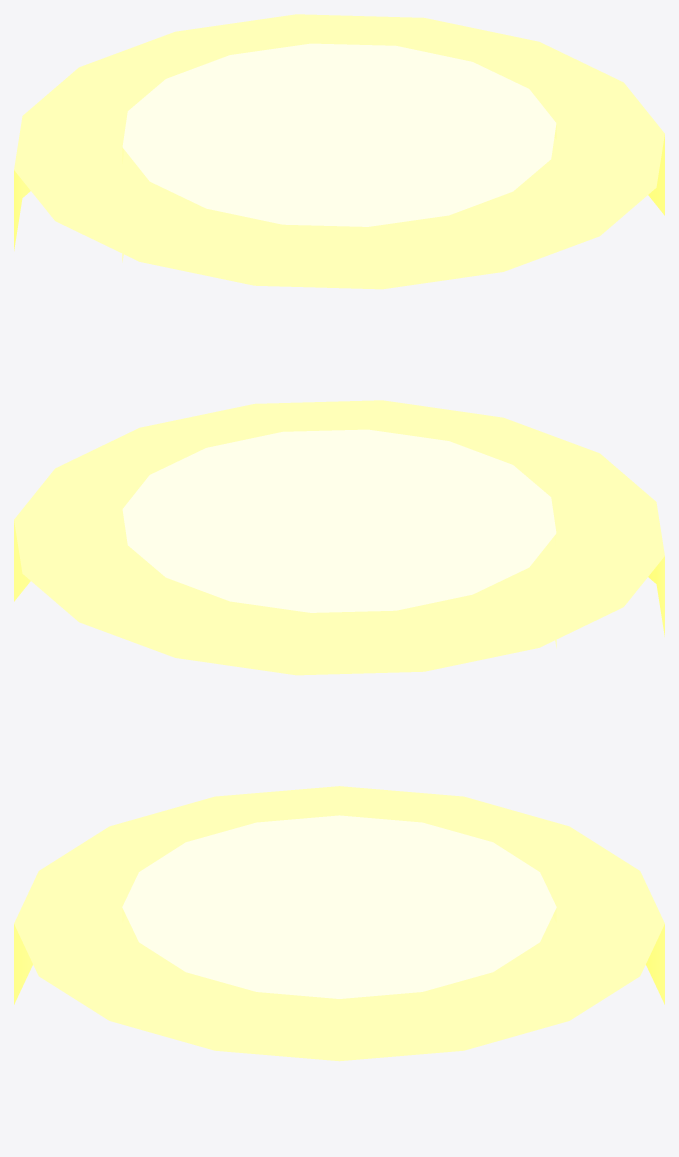
The model's file is model.collectible.glb.
3 renders of one model, top to bottom at view 1: azimuth 30°, elevation 25°; view 2: azimuth 150°, elevation 25°; view 3: azimuth 270°, elevation 25°, orthographic.
Parts seen in each view (by area): view 1: collectible; view 2: collectible; view 3: collectible.
Boxes of the visible parts, x1,y1,x2,y2 form: collectible: [14, 14, 664, 289]; collectible: [14, 400, 664, 675]; collectible: [14, 786, 664, 1061].
Size of the model in its own units: 0.3599 by 0.0698 by 0.3599.
